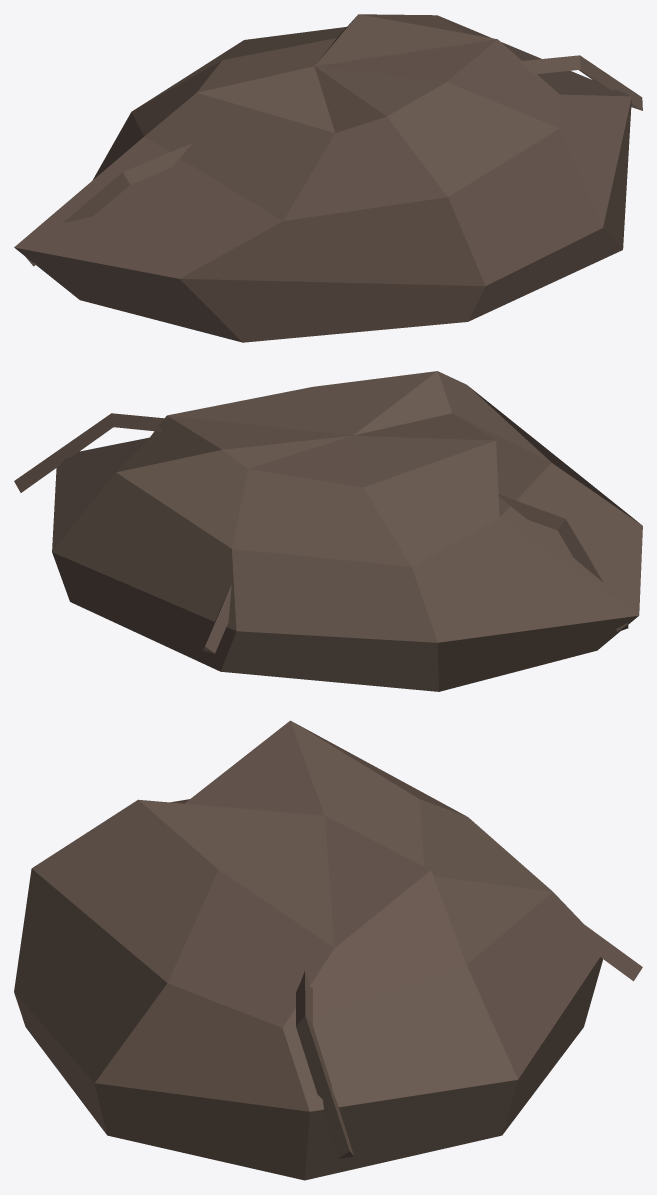
The model's file is prop-horsehair-stuffing.fbx.
3 renders of one model, top to bottom at view 1: azimuth 30°, elevation 25°; view 2: azimuth 150°, elevation 25°; view 3: azimuth 270°, elevation 25°, orthographic. The views are drawn at different scales.
Visible parts, largest first — view 1: prop-horsehair-stuffing; view 2: prop-horsehair-stuffing; view 3: prop-horsehair-stuffing.
Boxes of the visible parts, box(x1,y1,x2,y2) form: prop-horsehair-stuffing: box(14, 14, 642, 342); prop-horsehair-stuffing: box(14, 371, 642, 691); prop-horsehair-stuffing: box(14, 720, 642, 1180).
Size of the model in its own units: 40.01 by 11.11 by 29.29.
